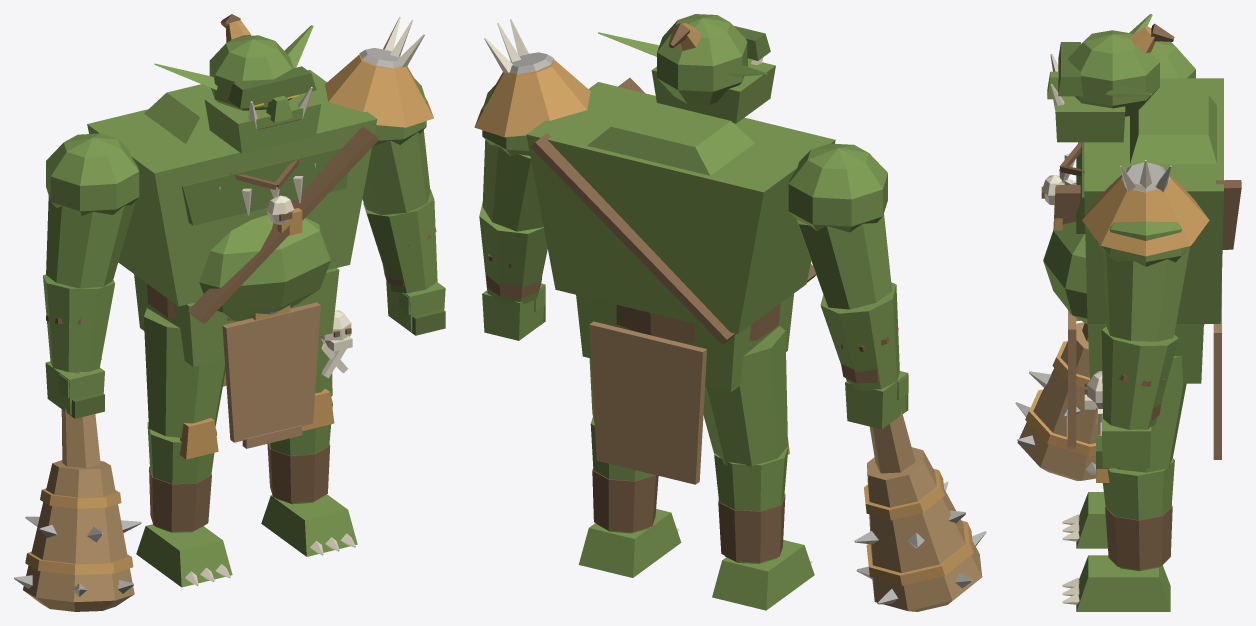
File: cr-brute.glb
3 renders of one model, left to right at view 1: azimuth 30°, elevation 25°; view 2: azimuth 150°, elevation 25°; view 3: azimuth 270°, elevation 25°, orthographic. The views are drawn at different scales.
Parts seen in each view (by area): view 1: torso, club, upperarm_r, loincloth_front, head, thigh_r, shin_r, pauldron_l, forearm_r, upperarm_l, forearm_l, shin_l (+11 smaller); view 2: torso, club, loincloth_back, upperarm_r, thigh_r, head, pauldron_l, shin_r, forearm_r, strap, upperarm_l, forearm_l (+8 smaller); view 3: torso, upperarm_l, head, club, pauldron_l, shin_l, forearm_l, foot_l, jaw, thigh_l, hand_l, pelvis (+7 smaller).
Part boxes in pixels (<box>): torso: <box>87,69,377,320</box>; club: <box>14,371,141,611</box>; upperarm_r: <box>46,133,139,288</box>; loincloth_front: <box>222,302,320,448</box>; head: <box>154,14,316,122</box>; thigh_r: <box>143,308,225,437</box>; shin_r: <box>147,418,218,532</box>; pauldron_l: <box>325,17,433,127</box>; forearm_r: <box>43,274,115,371</box>; upperarm_l: <box>362,78,430,215</box>; forearm_l: <box>363,189,437,293</box>; shin_l: <box>267,388,334,504</box>; torso: <box>526,82,835,334</box>; club: <box>854,410,986,611</box>; loincloth_back: <box>589,321,706,484</box>; upperarm_r: <box>788,143,892,309</box>; thigh_r: <box>703,326,787,466</box>; head: <box>598,14,770,104</box>; pauldron_l: <box>474,19,590,137</box>; shin_r: <box>714,440,789,563</box>; forearm_r: <box>820,282,899,391</box>; strap: <box>530,77,816,344</box>; upperarm_l: <box>482,85,543,231</box>; forearm_l: <box>479,203,547,304</box>; torso: <box>1043,78,1223,324</box>; upperarm_l: <box>1095,221,1195,341</box>; head: <box>1047,14,1174,116</box>; club: <box>1015,322,1100,480</box>; pauldron_l: <box>1082,160,1209,256</box>; shin_l: <box>1096,435,1174,571</box>; forearm_l: <box>1101,326,1178,429</box>; foot_l: <box>1062,555,1170,611</box>; jaw: <box>1050,54,1125,142</box>; thigh_l: <box>1117,356,1186,472</box>; hand_l: <box>1096,413,1151,468</box>; pelvis: <box>1087,324,1203,383</box>.
Size of what is drawn, in the model's own units: 1.89 by 2.16 by 0.8156.
